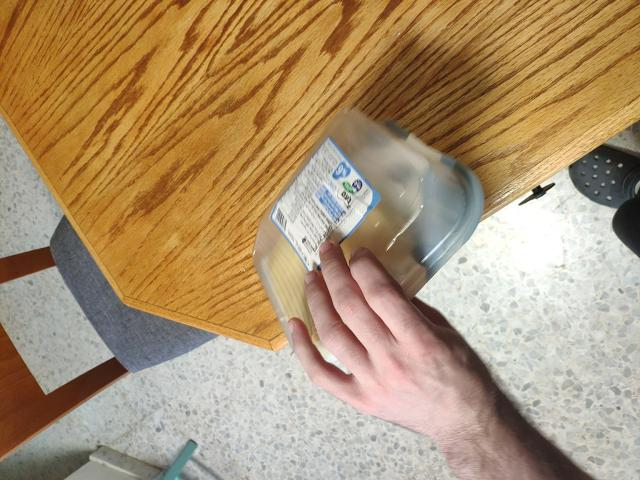cheese: (252, 109, 475, 384)
